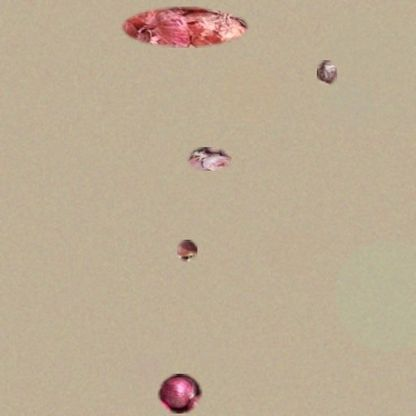healthy: (158, 374, 202, 414)
rotten: (119, 7, 250, 48), (317, 60, 337, 85)
sprouted: (187, 147, 232, 171), (177, 240, 197, 262)
